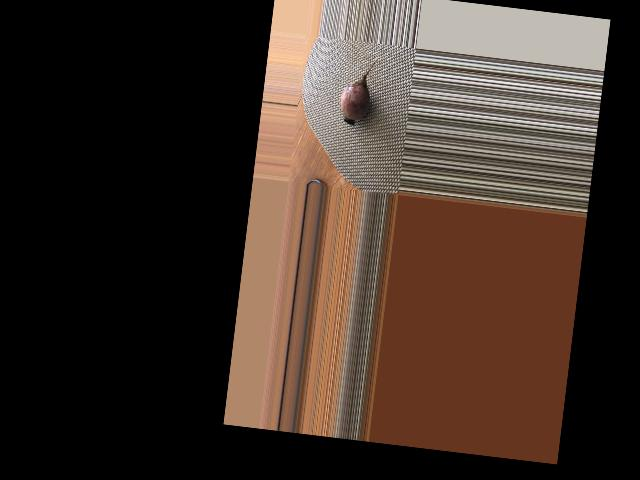beet: (337, 52, 381, 128)
